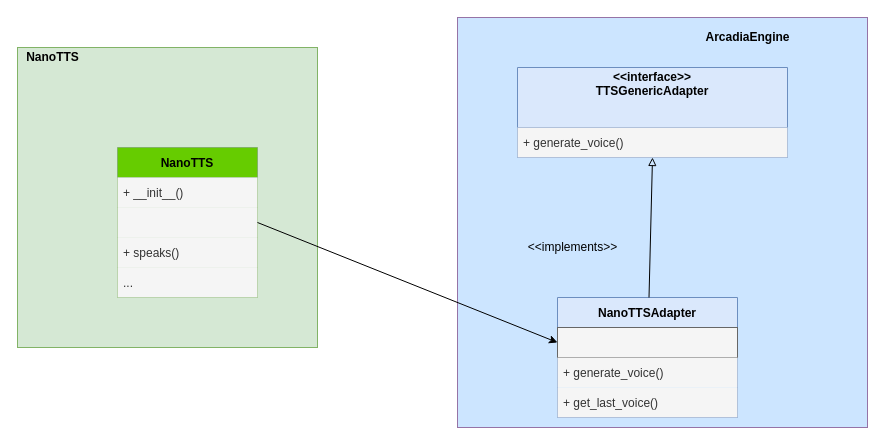
Some shapes in this 885 by 445 pixel diagram are drawn without their labels. Each missing label, with the centre of its shape:
+ speak(): pixel 187 222
- last_voice: Wave: pixel 647 342
